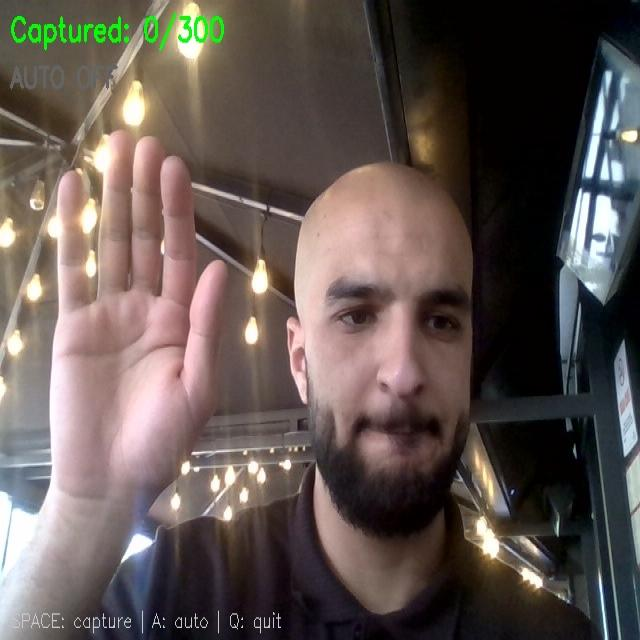Hand: (50, 132, 225, 506)
